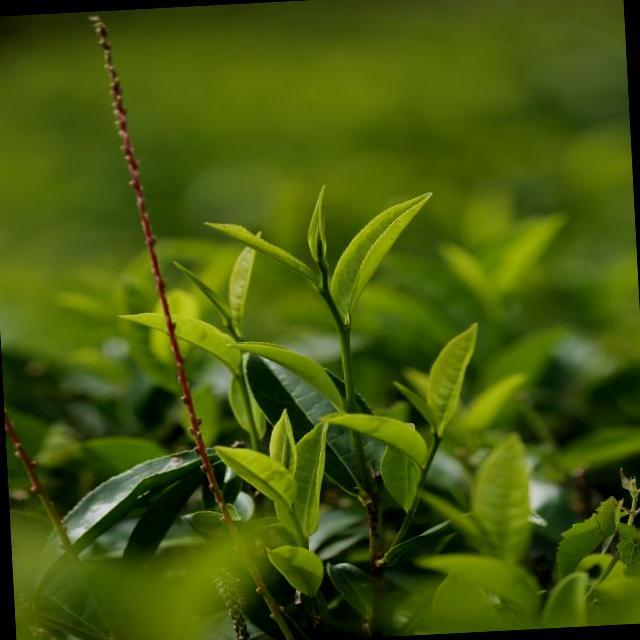Stem: (320, 288, 332, 300), (431, 439, 441, 450), (237, 374, 245, 384)
